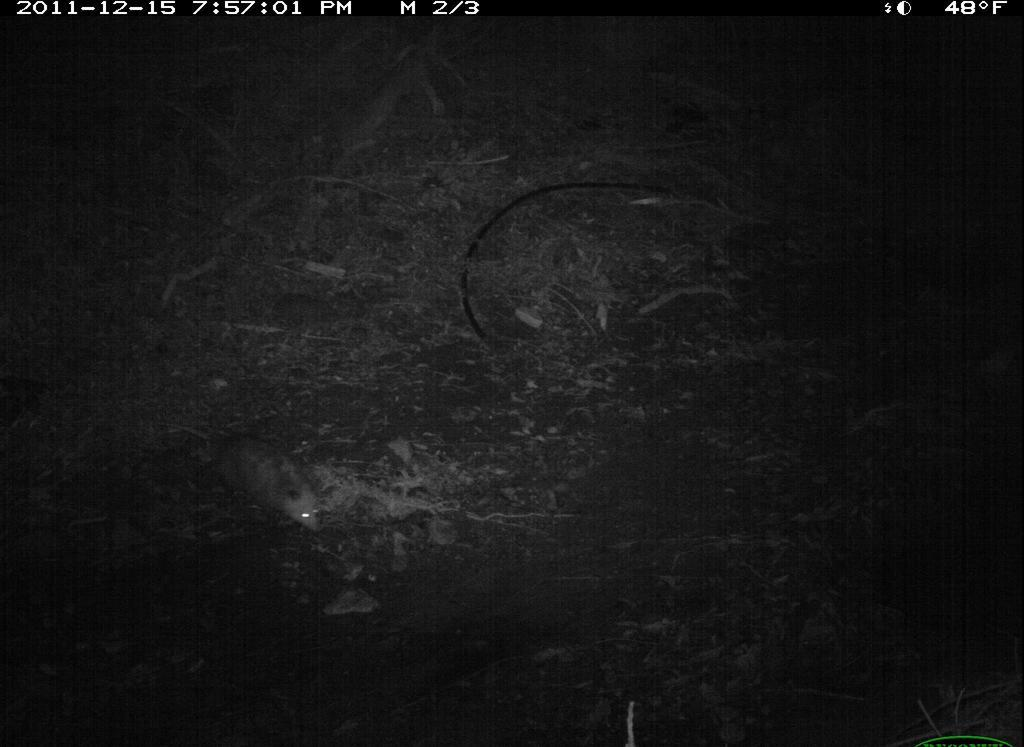opossum: (201, 433, 336, 543)
